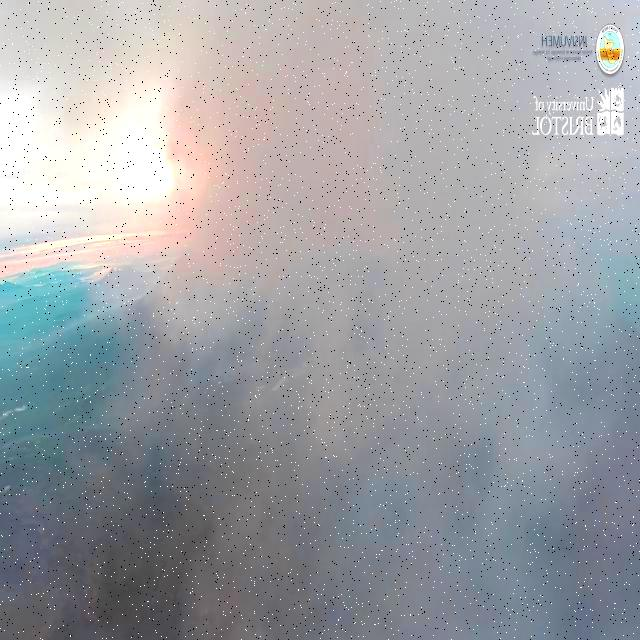Plume: (75, 1, 638, 640)
